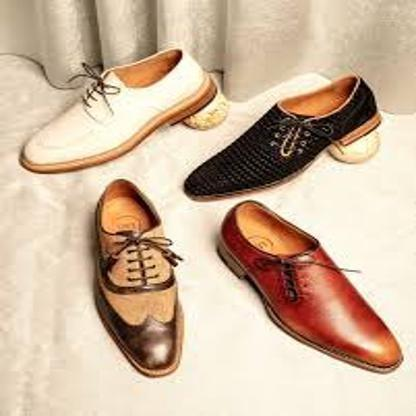not trash: (205, 201, 403, 377), (167, 57, 383, 206), (23, 47, 213, 181), (92, 180, 186, 376)
